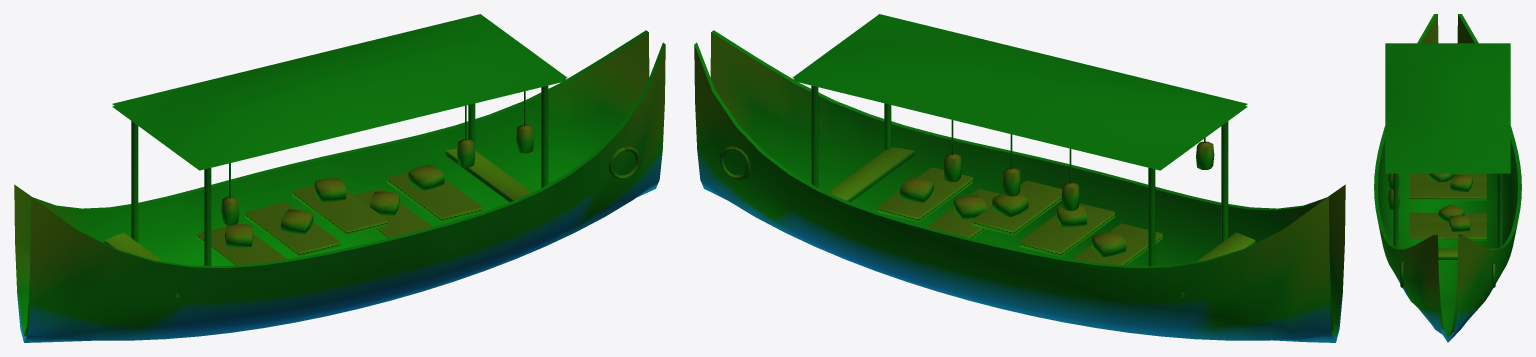
File: market_boat_b.glb
3 views of the same model, side by side, from view 1: azimuth 30°, elevation 25°; view 2: azimuth 150°, elevation 25°; view 3: azimuth 270°, elevation 25° (orthographic). The views are drawn at different scales.
Visible parts, largest first — view 1: market_boat_b; view 2: market_boat_b; view 3: market_boat_b.
Part boxes in pixels (x1=…): market_boat_b: x1=14, y1=14, x2=665, y2=342; market_boat_b: x1=694, y1=14, x2=1345, y2=342; market_boat_b: x1=1374, y1=14, x2=1521, y2=342.
Size of what is drawn, in the model's own units: 6 by 2.05 by 1.7.
